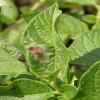Potato leaf early blight: (19, 1, 71, 82)
